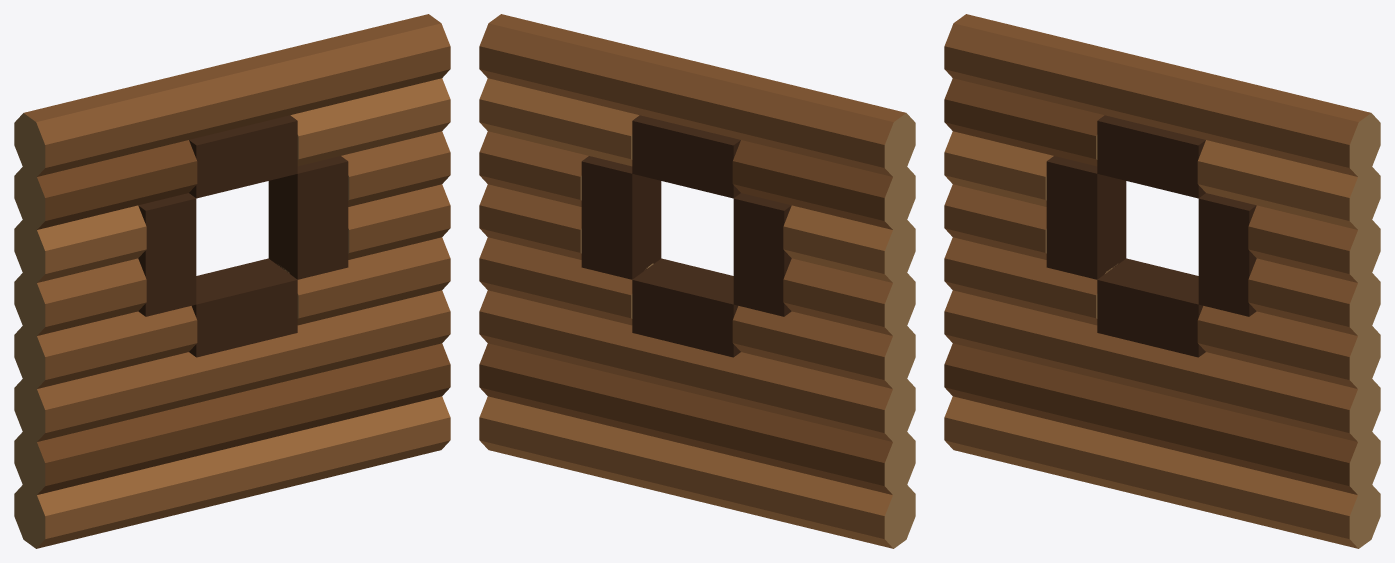
File: piece_window_voxel.fbx
3 renders of one model, left to right at view 1: azimuth 30°, elevation 25°; view 2: azimuth 150°, elevation 25°; view 3: azimuth 330°, elevation 25°, orthographic.
Visible parts, largest first — view 1: piece_window_voxel; view 2: piece_window_voxel; view 3: piece_window_voxel.
Boxes of the visible parts, bbox=[...] form: piece_window_voxel: bbox=[14, 14, 450, 548]; piece_window_voxel: bbox=[479, 14, 915, 548]; piece_window_voxel: bbox=[944, 14, 1380, 548].
Size of the model in its own units: 2 by 2.01 by 0.2624.
